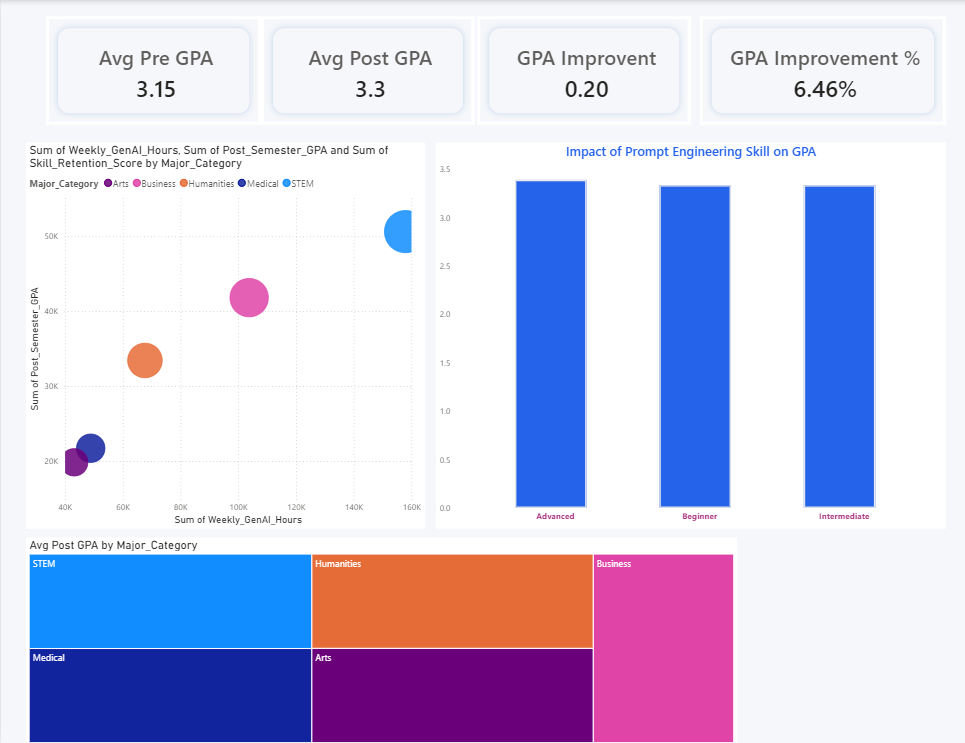

The page's visual inventory and layout, read from the dashboard file:
{"tool":"powerbi","page":{"name":"ACADEMIC IMPACT ANALYSIS","canvas":[1399,1080],"ordinal":1},"visuals":[{"type":"cardVisual","fields":{"Data":["ACADEMIC PERFORMANCE.Avg Post GPA"]},"box":[376.4,23.5,309.5,157.4],"z":0},{"type":"cardVisual","fields":{"Data":["ACADEMIC PERFORMANCE.GPA Improvent"]},"box":[689.5,23.5,309.5,157.4],"z":1000},{"type":"cardVisual","fields":{"Data":["ACADEMIC PERFORMANCE.Avg Pre GPA"]},"box":[65.1,23.5,311.3,157.4],"z":2000},{"type":"cardVisual","fields":{"Data":["ACADEMIC PERFORMANCE.GPA Improvement %"]},"box":[1011.6,23.5,356.5,157.4],"z":3000},{"type":"scatterChart","fields":{"X":["Sum(ai_student_impact_dataset (1).Weekly_GenAI_Hours)"],"Y":["Sum(ai_student_impact_dataset (1).Post_Semester_GPA)"],"Series":["Dim_Major.Major_Category"],"Size":["Sum(ai_student_impact_dataset (1).Skill_Retention_Score)"]},"box":[36.2,206.3,577.3,559.2],"z":4000},{"type":"treemap","fields":{"Group":["Dim_Major.Major_Category"],"Values":["ACADEMIC PERFORMANCE.Avg Post GPA"]},"box":[36.2,778.2,1029.7,302.2],"z":5000},{"type":"columnChart","title":"Impact of Prompt Engineering Skill on GPA","fields":{"Category":["Dim_PromptSkill.Prompt_Engineering_Skill"],"Y":["ACADEMIC PERFORMANCE.Avg Post GPA"]},"box":[629.8,206.3,738.3,559.2],"z":6000}]}

Visuals, with their boxes in screenshot pixels (x1, y1, x2, y2), scaled from the page's 1399x1080 canvas onto the 965x743 screenshot:
cardVisual - ACADEMIC PERFORMANCE.Avg Post GPA: {"left": 260, "top": 16, "right": 473, "bottom": 124}
cardVisual - ACADEMIC PERFORMANCE.GPA Improvent: {"left": 476, "top": 16, "right": 689, "bottom": 124}
cardVisual - ACADEMIC PERFORMANCE.Avg Pre GPA: {"left": 45, "top": 16, "right": 260, "bottom": 124}
cardVisual - ACADEMIC PERFORMANCE.GPA Improvement %: {"left": 698, "top": 16, "right": 944, "bottom": 124}
scatterChart - Sum(ai_student_impact_dataset (1).Weekly_GenAI_Hours) x Sum(ai_student_impact_dataset (1).Post_Semester_GPA): {"left": 25, "top": 142, "right": 423, "bottom": 527}
treemap - Dim_Major.Major_Category x ACADEMIC PERFORMANCE.Avg Post GPA: {"left": 25, "top": 535, "right": 735, "bottom": 742}
"Impact of Prompt Engineering Skill on GPA" columnChart: {"left": 434, "top": 142, "right": 944, "bottom": 527}
